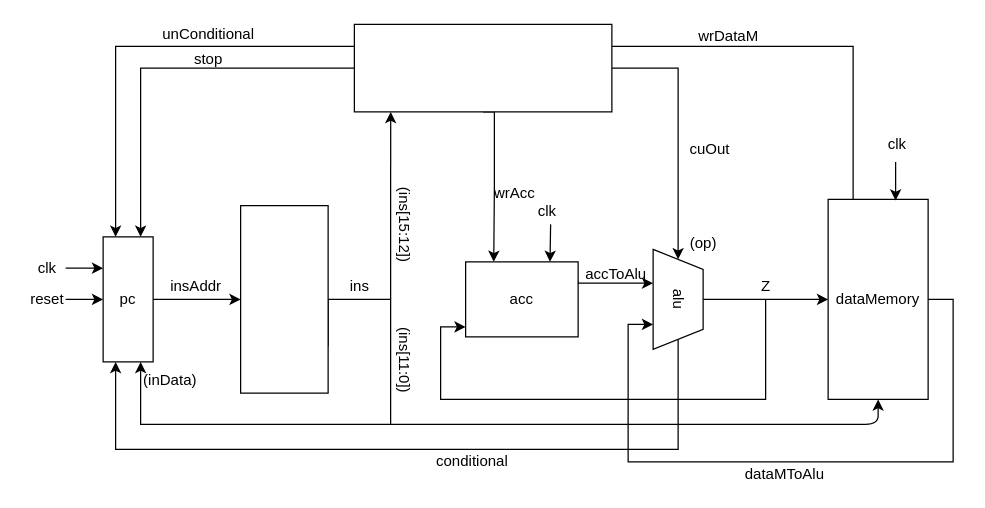
This 985x508 diagram has some shape labels left out. Here are the shapes that lost their labels. From the top down, the centre of each, then its label:
the point at 482,67: cu
the point at 283,298: insMemory
